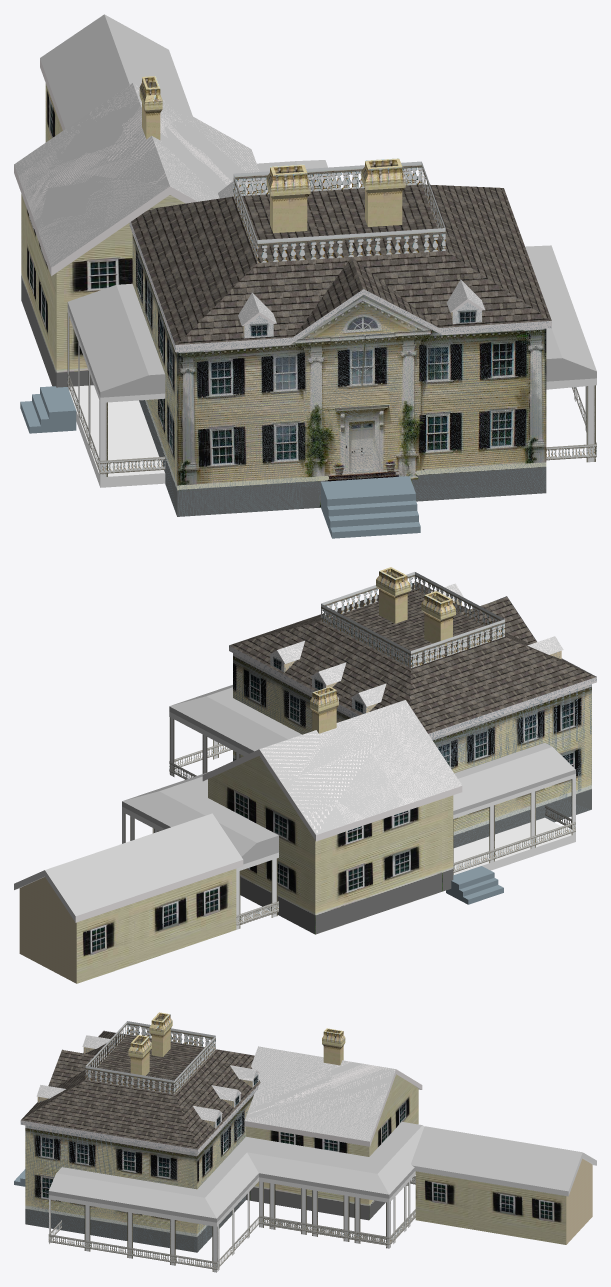
File: LongfellowHouse.dae
3 views of the same model, one above another, from view 1: azimuth 30°, elevation 25°; view 2: azimuth 150°, elevation 25°; view 3: azimuth 270°, elevation 25° (orthographic). The views are drawn at different scales.
Visible parts, largest first — view 1: group_3 (×2), group_2 (×2), group_7 (×2), group_8 (×4), group_6, group_10, group_11 (×2), Component_1 (×3), group_4 (×2), group_1; view 2: group_2 (×2), group_6, group_7 (×2), group_3, group_9 (×2), group_11 (×3), group_8 (×5), group_10 (×2), Component_1 (×3), group_1; view 3: group_11 (×3), group_2 (×2), group_3, group_7 (×2), group_9 (×2), group_10 (×2), group_6, Component_1 (×3), group_1.
Boxes of the visible parts, box(x1,y1,x2,y2) form: group_3 (×2): box(132, 234, 546, 516); group_2 (×2): box(131, 161, 551, 344); group_7 (×2): box(14, 83, 266, 275); group_8 (×4): box(20, 283, 165, 487); group_6: box(21, 194, 185, 387); group_10: box(40, 14, 192, 128); group_11 (×2): box(257, 160, 596, 462); Component_1 (×3): box(139, 76, 405, 233); group_4 (×2): box(321, 476, 420, 538); group_1: box(129, 222, 551, 352); group_2 (×2): box(229, 572, 595, 733); group_6: box(208, 756, 453, 934); group_7 (×2): box(202, 700, 462, 841); group_3: box(233, 653, 591, 847); group_9 (×2): box(19, 869, 236, 983); group_11 (×3): box(122, 685, 301, 929); group_8 (×5): box(446, 743, 575, 904); group_10 (×2): box(45, 813, 243, 922); Component_1 (×3): box(310, 567, 455, 733); group_1: box(229, 582, 596, 738); group_11 (×3): box(48, 1122, 424, 1272); group_2 (×2): box(21, 1021, 260, 1149); group_3: box(25, 1093, 254, 1252); group_7 (×2): box(244, 1046, 395, 1146); group_9 (×2): box(415, 1158, 592, 1244); group_10 (×2): box(411, 1126, 596, 1196); group_6: box(246, 1074, 418, 1220); Component_1 (×3): box(128, 1012, 345, 1079); group_1: box(20, 1030, 259, 1153).
Size of the model in its own units: 1099 by 1875 by 605.
